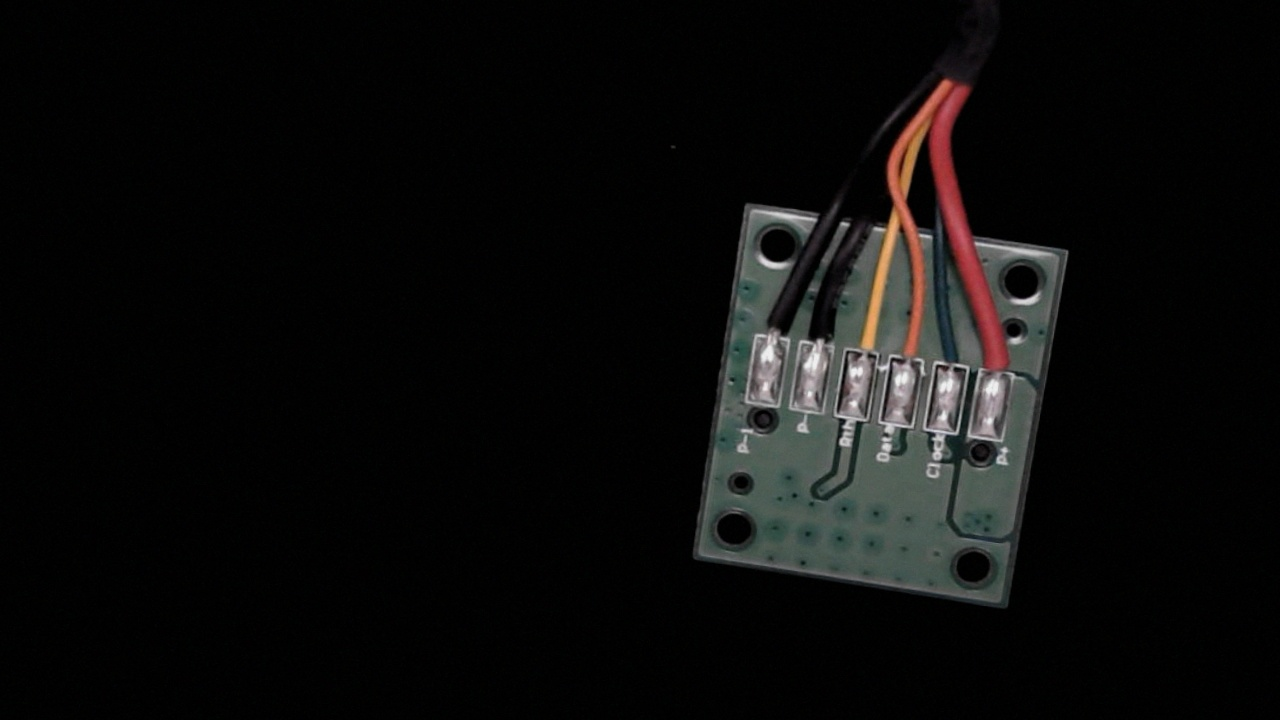Black: (794, 284, 848, 370)
Black1: (751, 282, 801, 362)
Green: (926, 314, 979, 397)
Orange: (884, 303, 934, 388)
Red: (972, 317, 1025, 400)
Yellow: (835, 290, 888, 378)
